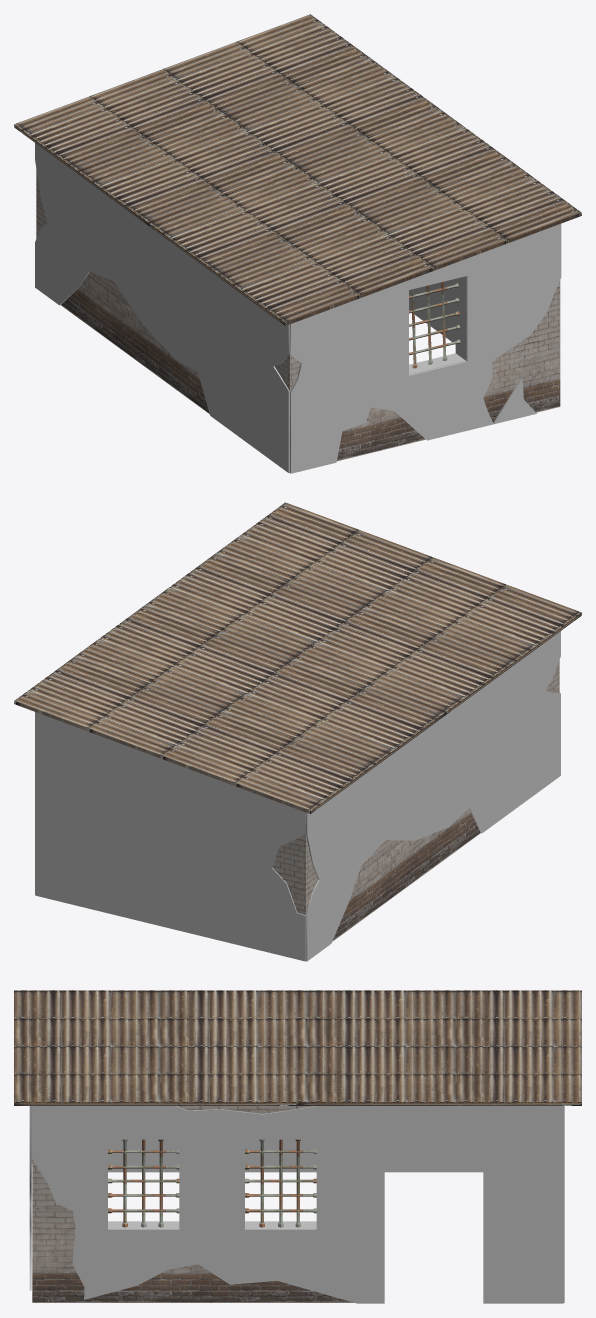
Rendered from enterance_house_lod0.fbx.
3 renders of one model, top to bottom at view 1: azimuth 30°, elevation 25°; view 2: azimuth 150°, elevation 25°; view 3: azimuth 270°, elevation 25°, orthographic. The views are drawn at different scales.
Visible parts, largest first — view 1: Mesh Object; view 2: Mesh Object; view 3: Mesh Object.
Boxes of the visible parts, x1=… form: Mesh Object: x1=14, y1=14, x2=581, y2=473; Mesh Object: x1=14, y1=502, x2=581, y2=961; Mesh Object: x1=14, y1=990, x2=581, y2=1303.
Bounding box in the file's own units: 3.96 × 2.52 × 6.26.
